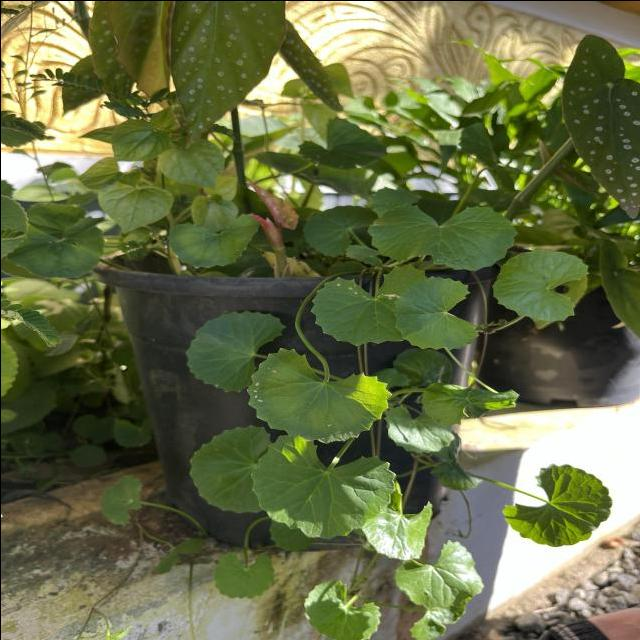Centella asiatica: (248, 432, 398, 540), (245, 345, 393, 444), (364, 200, 520, 272), (307, 260, 429, 346), (489, 246, 591, 322), (392, 273, 480, 351)
